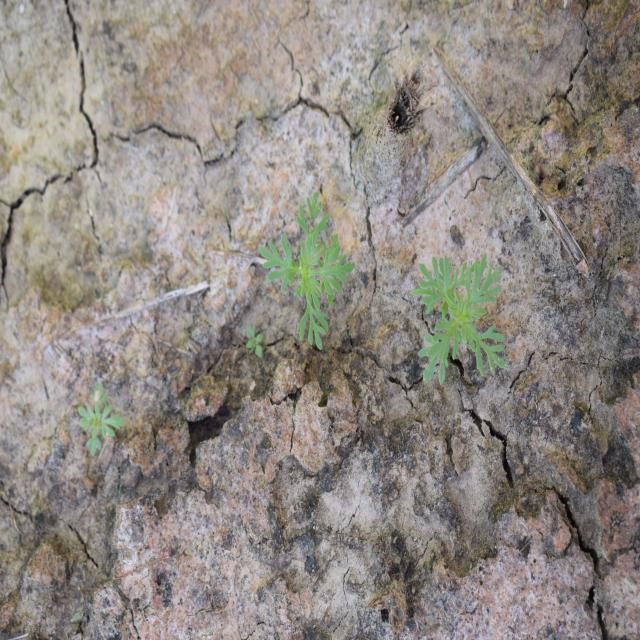Ragweed: (257, 188, 356, 352), (408, 252, 508, 386), (76, 378, 126, 458)
